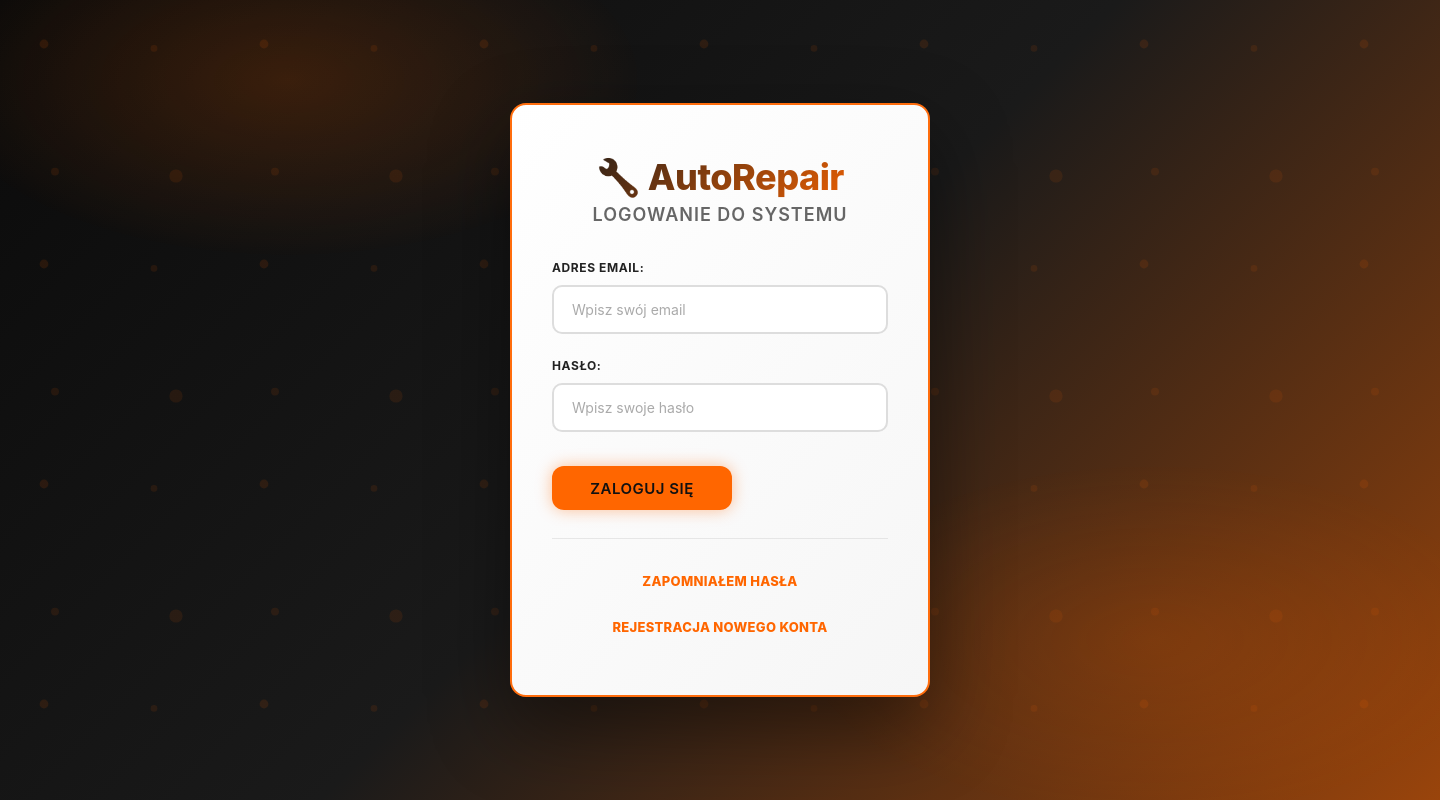
Test: LoginScreen E2E › shows validation error when required fields are empty
This screenshot has width=1440, height=800.
What coordinates should you click on to do the following:
click the button with test id "LoginScreen-login-submit-button"
I would click on:
 (642, 488)
Its box is left=552, top=466, right=732, bottom=510.
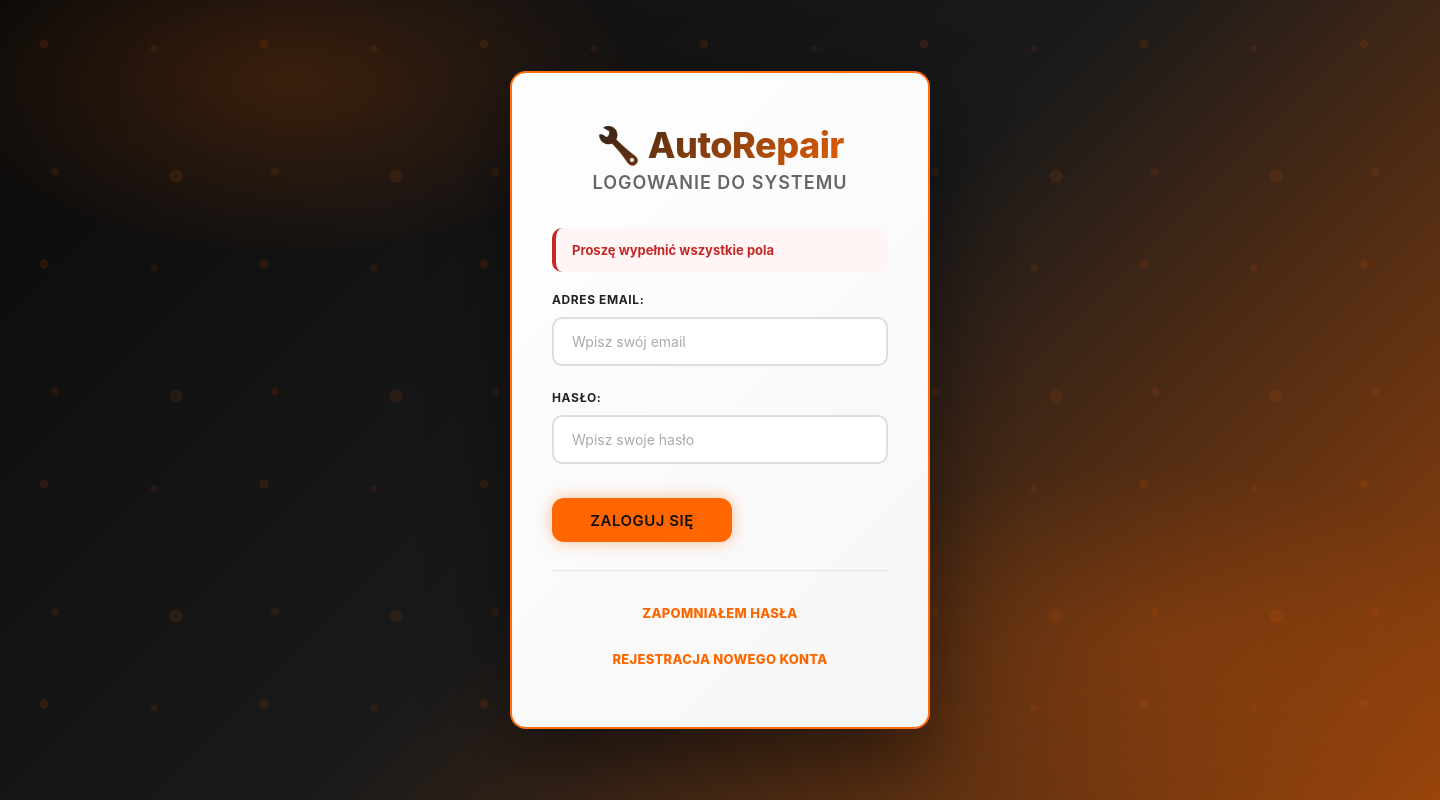
Now the text with test id "LoginScreen-error-alert" reads "Proszę wypełnić wszystkie pola", box left=552, top=228, right=888, bottom=272
